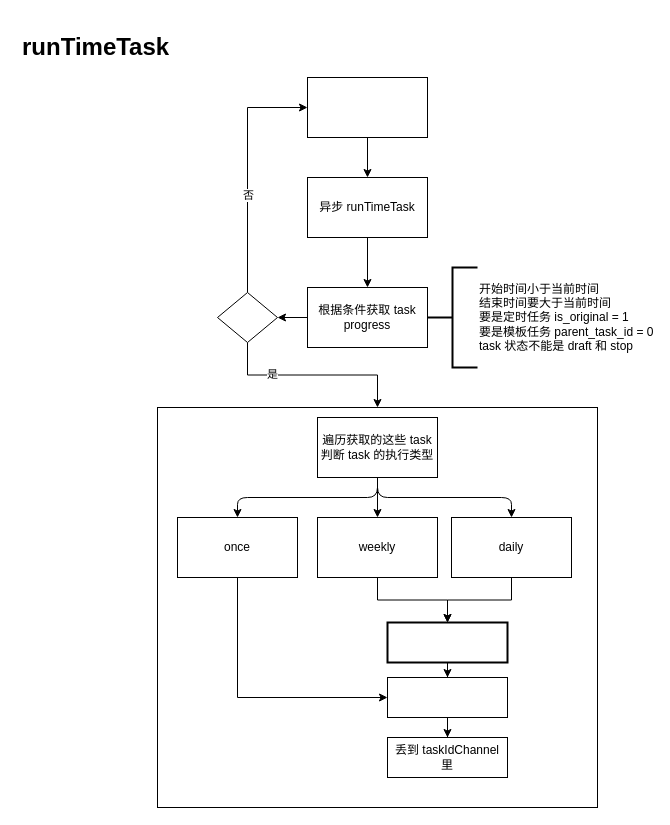
Some shapes in this 670 by 825 pixel diagram are drawn without their labels. Here are the shapes that lost their labels. From the top down, the centre of each, then its label:
At point (367, 107): "ticker 一分钟一次".
At point (247, 317): "是否有任务".
At point (447, 642): "copyTask".
At point (447, 697): "更新 campaign 状态 为 ready".
